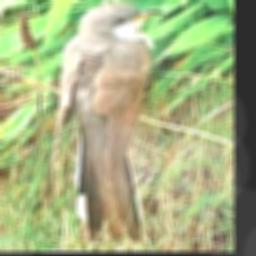Cuckoo: (58, 3, 164, 239)
